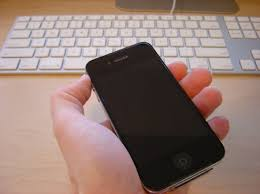iphone: (80, 38, 228, 192)
iphone4: (80, 38, 228, 192)
